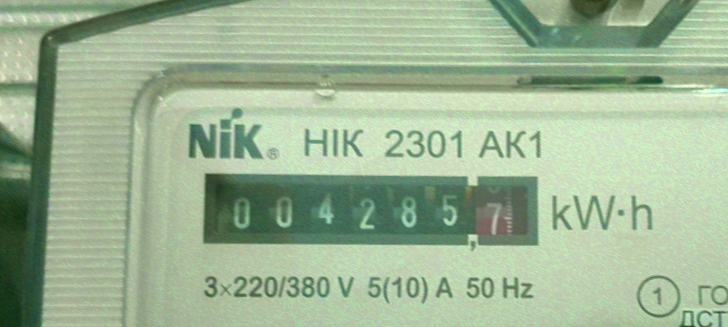0: (272, 192, 295, 230), (230, 194, 252, 230)
2: (356, 195, 377, 231)
4: (317, 190, 335, 225)
5: (438, 191, 460, 227)
7: (482, 200, 503, 236)
8: (397, 193, 419, 230)
screen: (187, 156, 555, 265)
